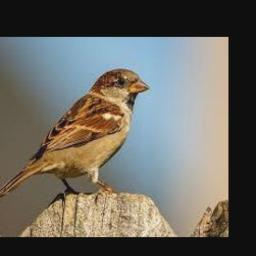Sparrow: (0, 69, 150, 197)
